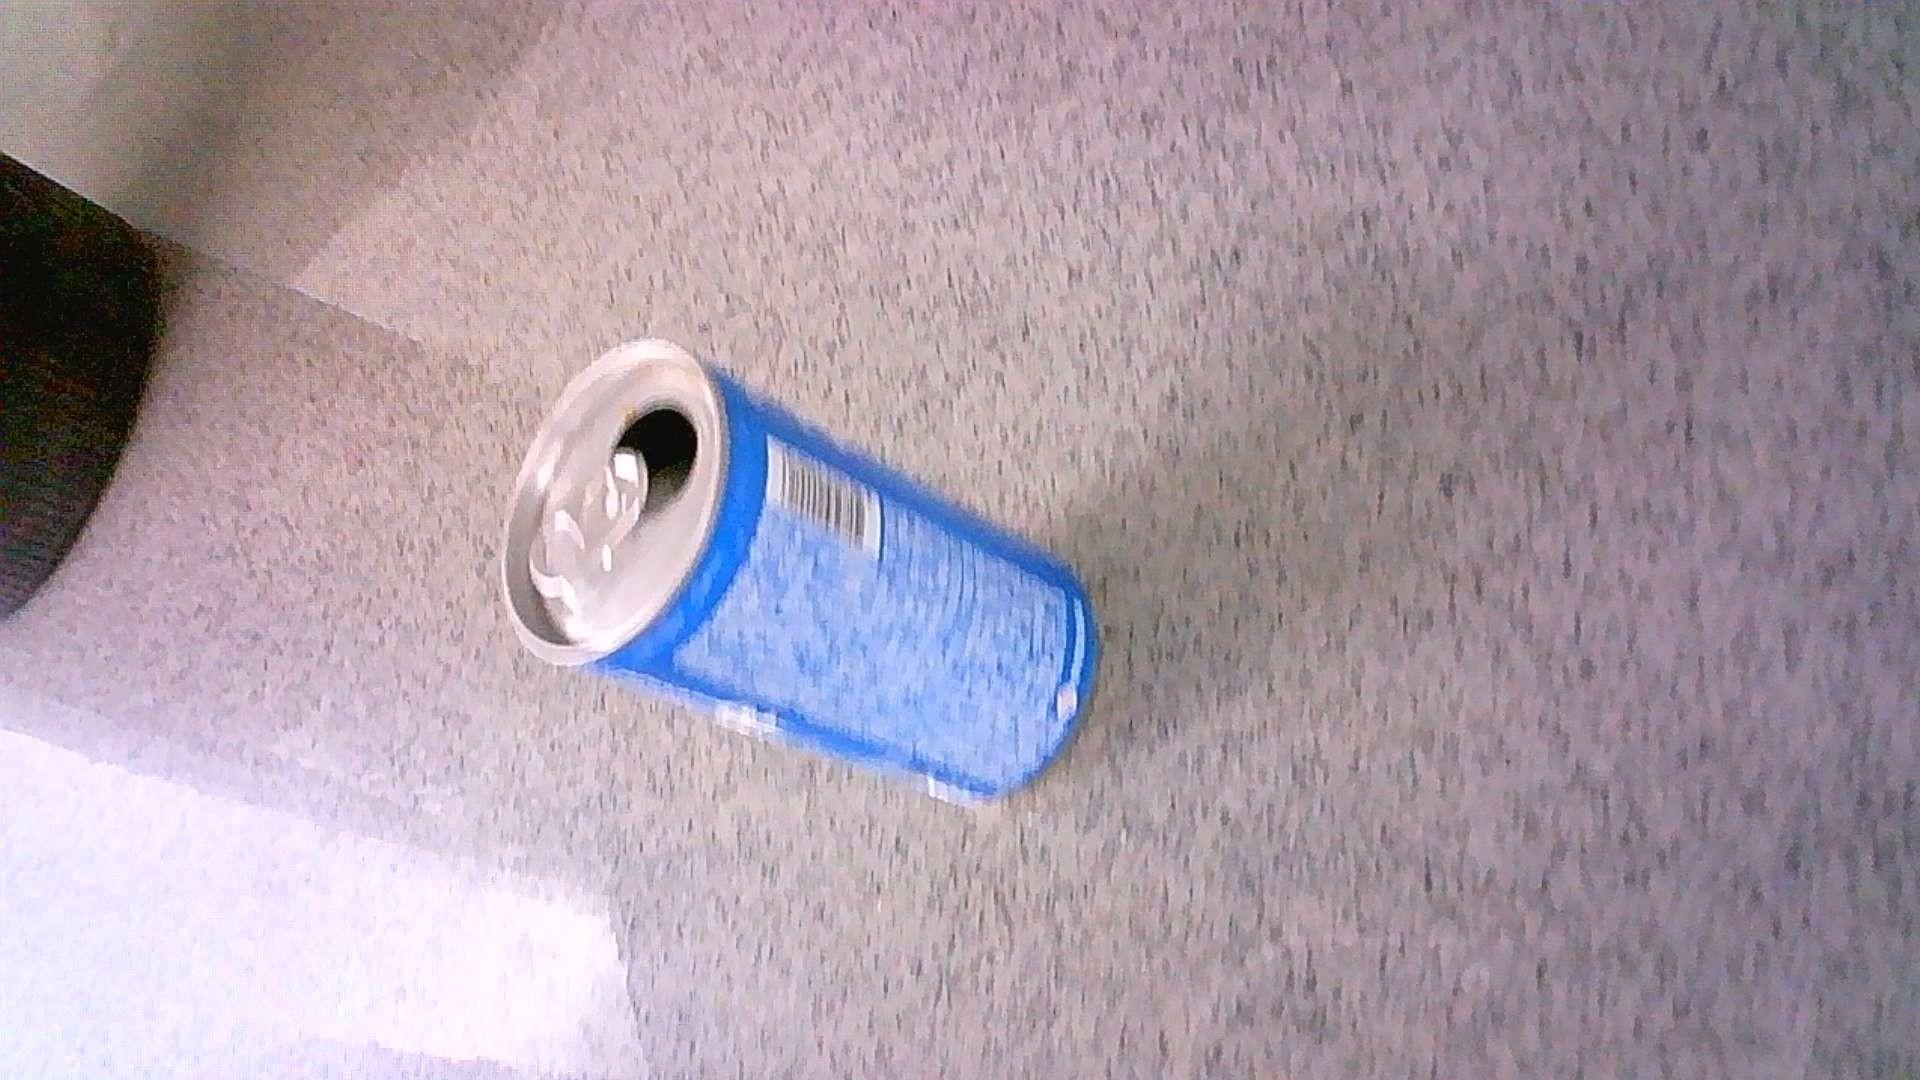letsbe: (499, 337, 1101, 799)
